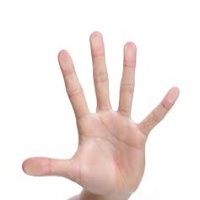ring: (118, 37, 142, 120)
